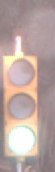Green: (1, 39, 45, 161)
